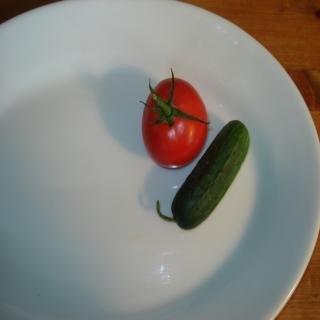tomato: (143, 76, 208, 165)
